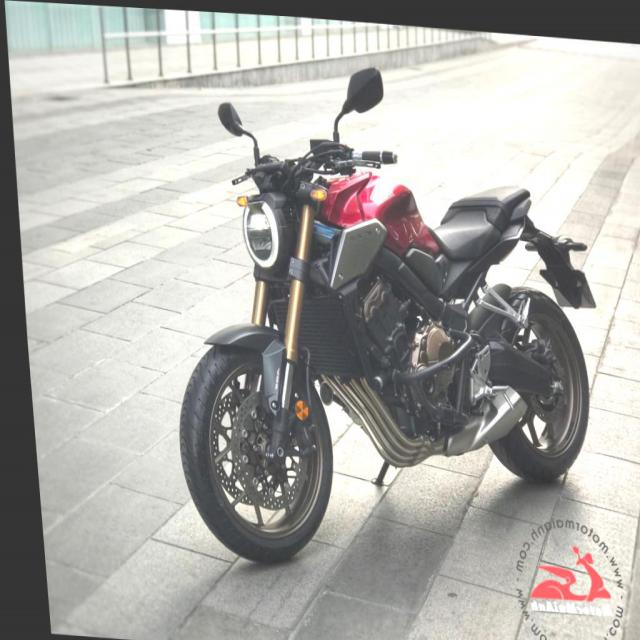CB650R: (150, 121, 597, 580)
